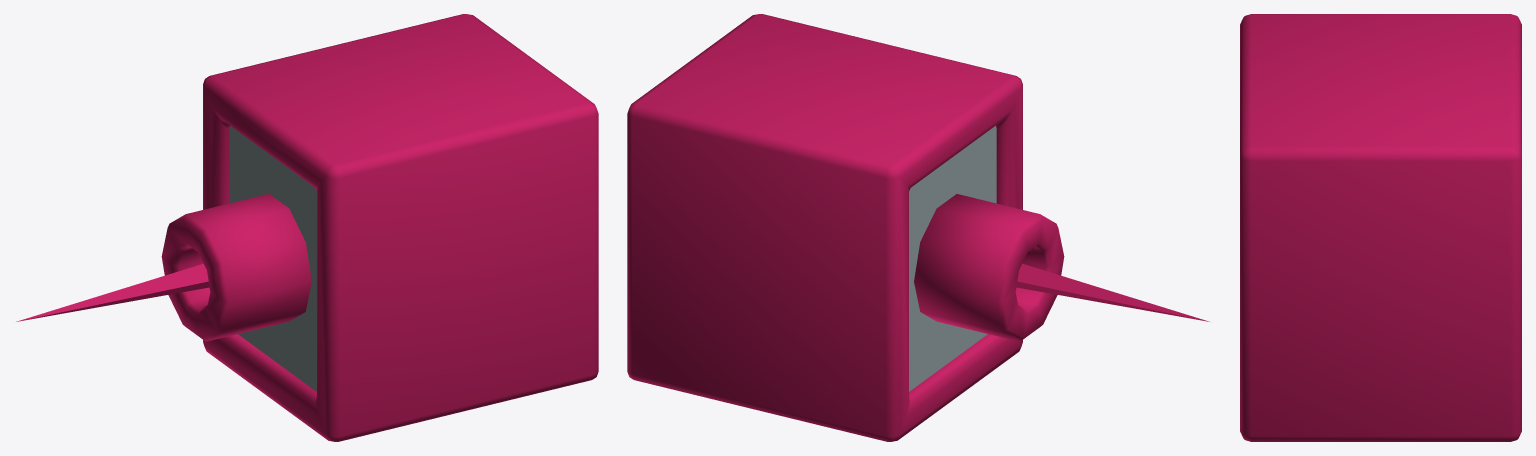
Rendered from shooting_pink.fbx.
3 renders of one model, left to right at view 1: azimuth 30°, elevation 25°; view 2: azimuth 150°, elevation 25°; view 3: azimuth 270°, elevation 25°, orthographic. The views are drawn at different scales.
Visible parts, largest first — view 1: shooting_pink_main, shooting_pink_serve; view 2: shooting_pink_main, shooting_pink_serve; view 3: shooting_pink_main.
Boxes of the visible parts, x1,y1,x2,y2 form: shooting_pink_main: (161, 14, 598, 441); shooting_pink_serve: (16, 263, 209, 321); shooting_pink_main: (627, 14, 1064, 441); shooting_pink_serve: (1016, 263, 1209, 321); shooting_pink_main: (1240, 14, 1521, 441).
Size of the model in its own units: 0.4573 by 0.2318 by 0.2004.
